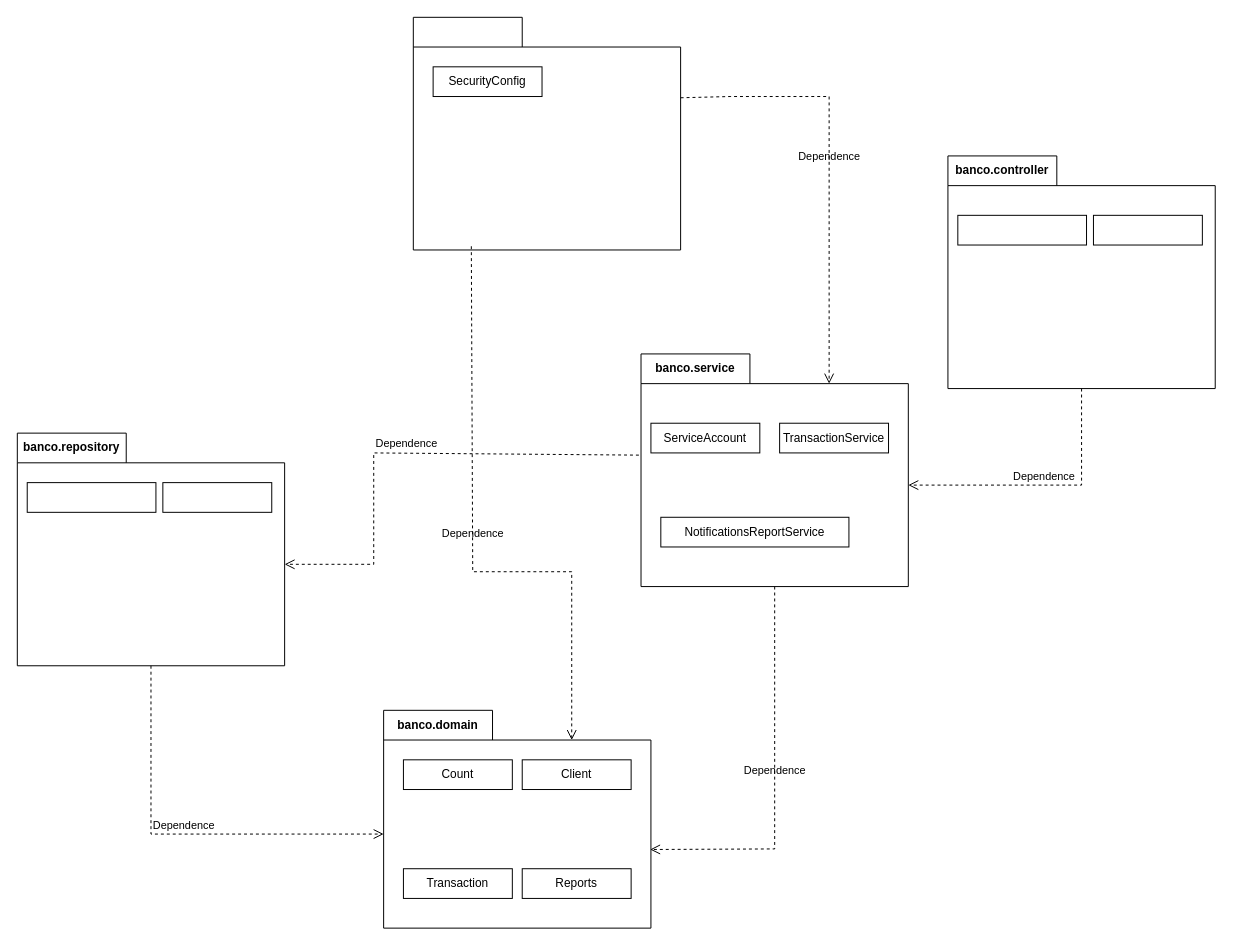
The diagram is 1233 pixels wide and 945 high, and some of its shapes have lost their labels. Each missing label, with the centre of its shape:
"AccountController" goes at (1147,229).
"AccountRepository" goes at (217,497).
"banco.security" goes at (546,133).
"TransactionController" goes at (1022,229).
"TransactionRepository" goes at (91,497).
